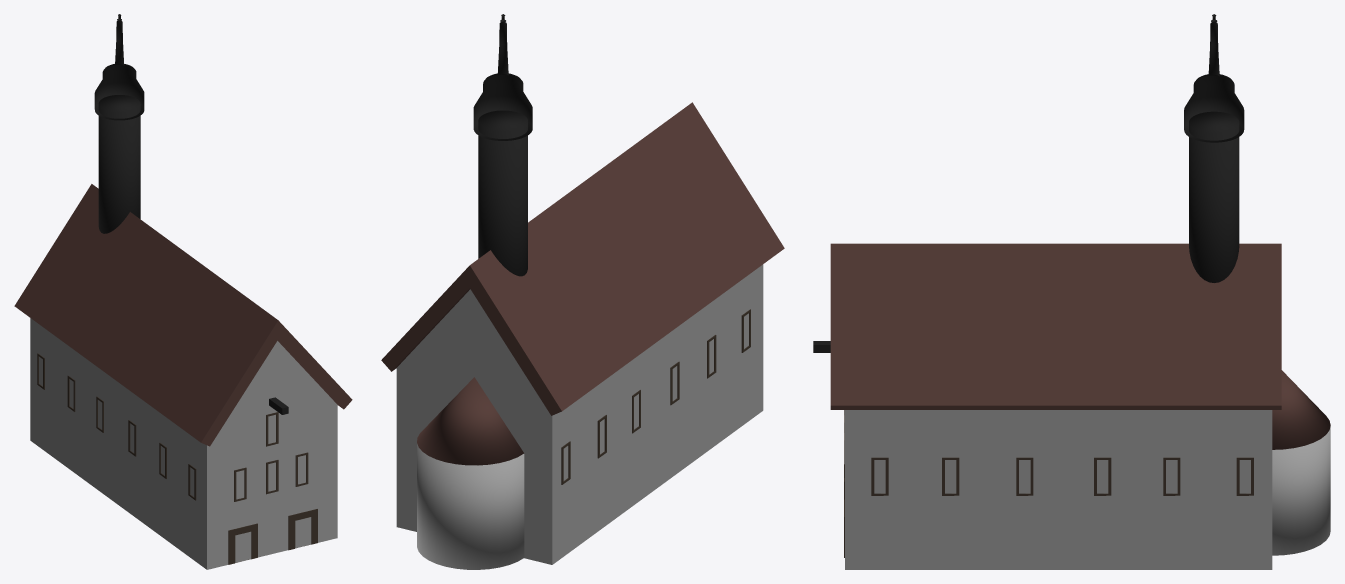
Rendered from townHall.fbx.
3 views of the same model, side by side, from view 1: azimuth 30°, elevation 25°; view 2: azimuth 150°, elevation 25°; view 3: azimuth 270°, elevation 25° (orthographic). The views are drawn at different scales.
Visible parts, largest first — view 1: Cube; view 2: Cube; view 3: Cube.
Part boxes in pixels (x1=…): Cube: x1=14, y1=14, x2=352, y2=569; Cube: x1=381, y1=14, x2=784, y2=569; Cube: x1=813, y1=14, x2=1330, y2=569.
Size of the model in its own units: 11622 by 31365 by 28423.
